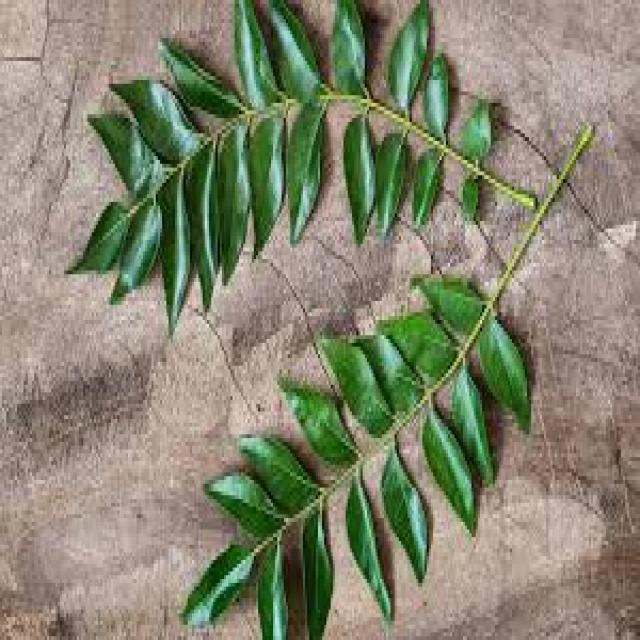healthy_leaf: (147, 291, 560, 624), (61, 22, 527, 274)
